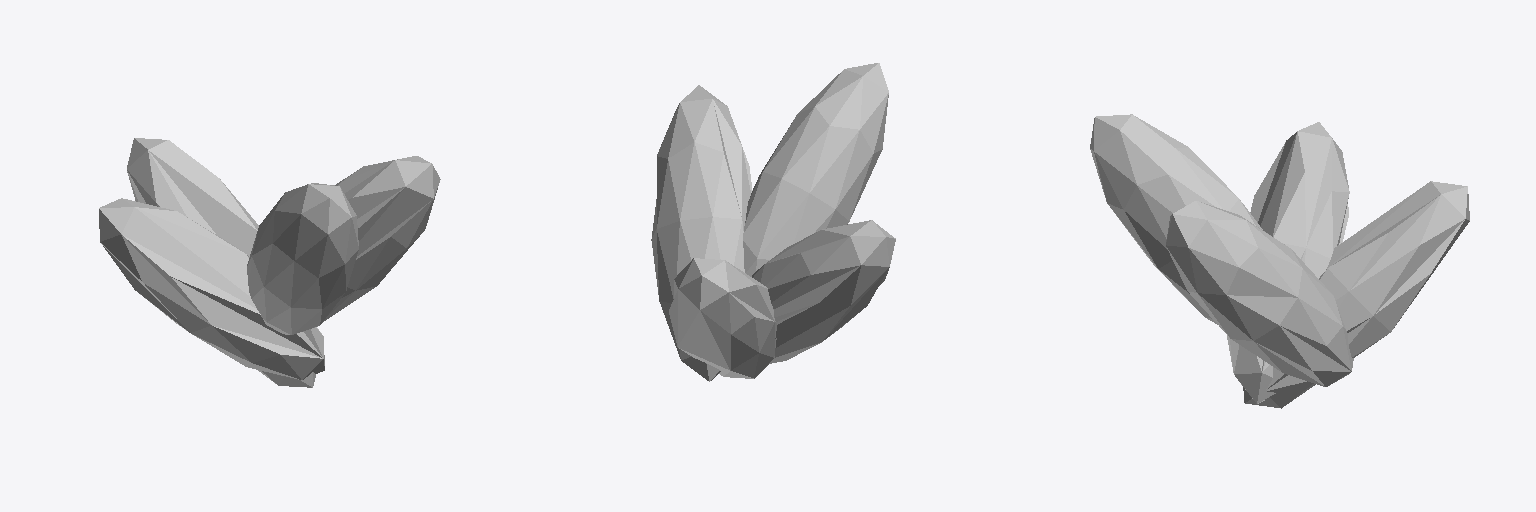
File: big_grass.obj
The picture shows the model from 3 angles: view 1: azimuth 30°, elevation 25°; view 2: azimuth 150°, elevation 25°; view 3: azimuth 270°, elevation 25°; orthographic projection.
Parts seen in each view (by area): view 1: Icosphere.043; view 2: Icosphere.043; view 3: Icosphere.043.
Boxes of the visible parts, box(x1,y1,x2,y2) form: Icosphere.043: box(99, 138, 440, 387); Icosphere.043: box(651, 63, 895, 381); Icosphere.043: box(1090, 114, 1469, 408).
Size of the model in its own units: 1.27 by 1.15 by 1.51.